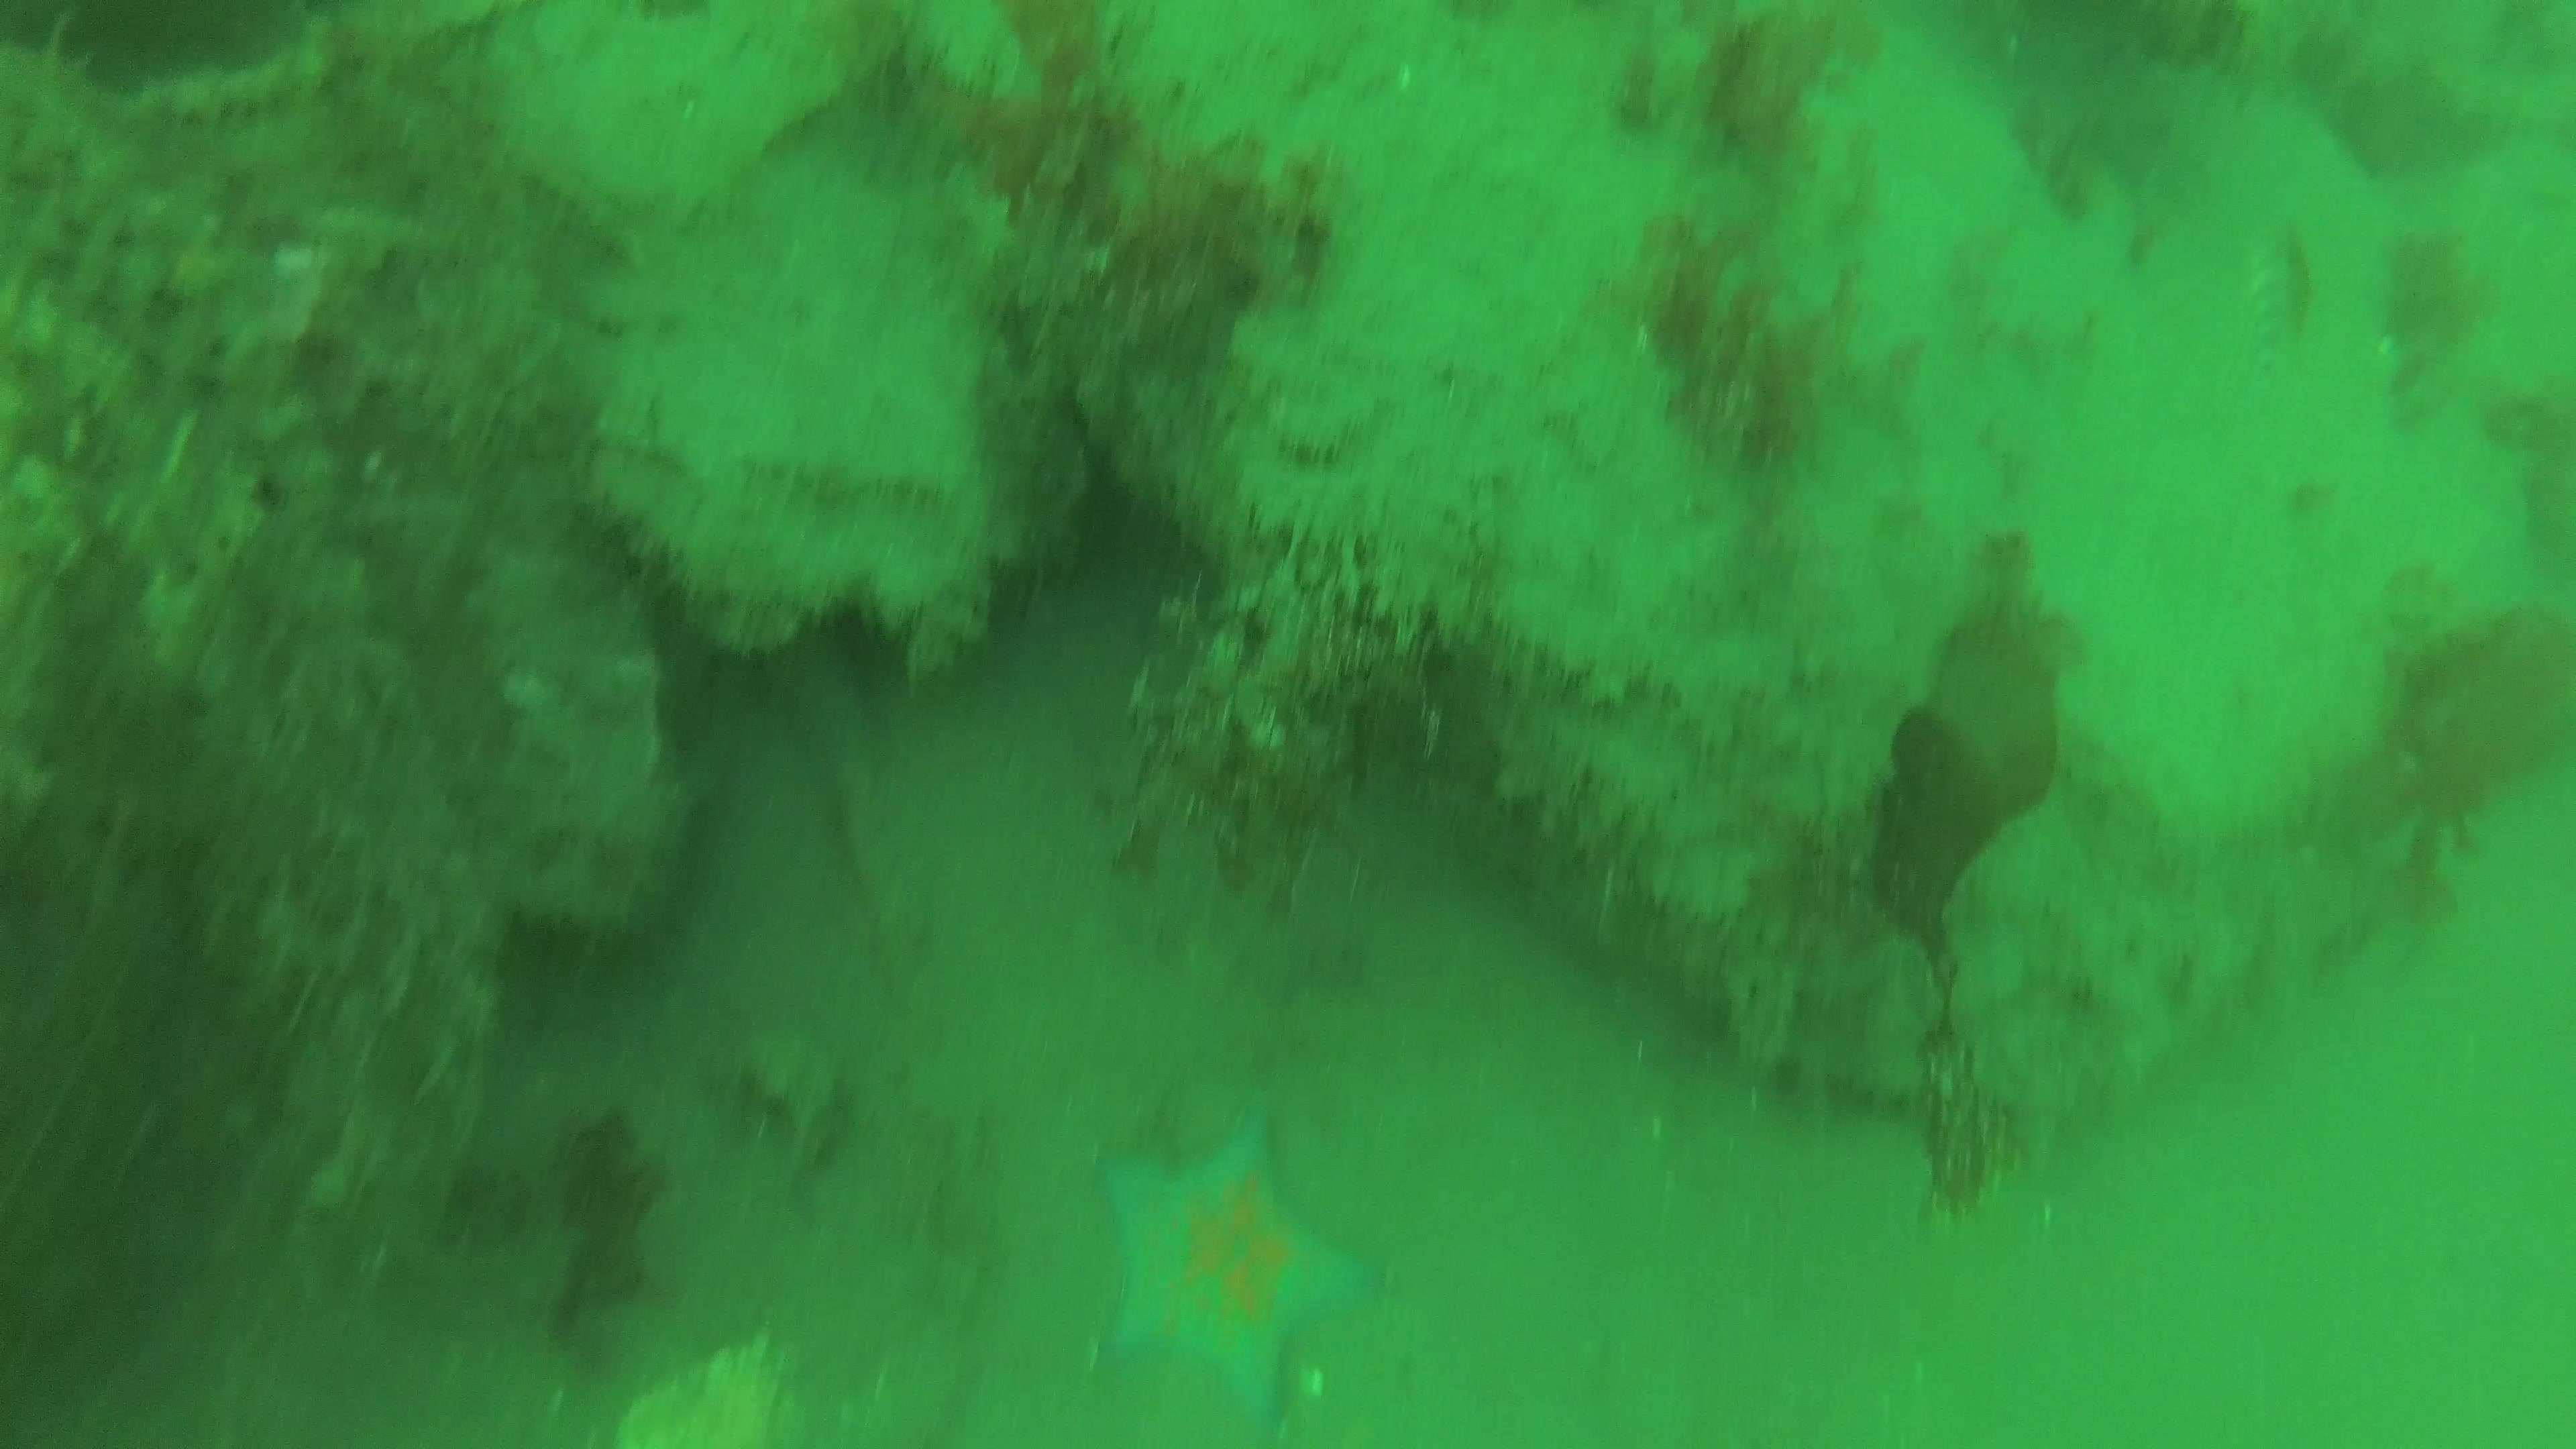starfish: (1092, 1100, 1364, 1419)
